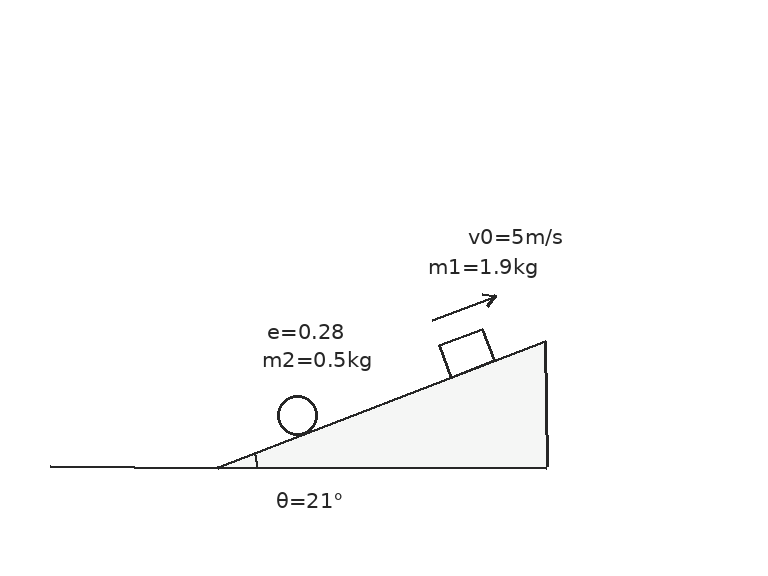ball: (275, 393, 319, 437)
block: (436, 327, 496, 379)
ramp: (215, 339, 548, 469)
